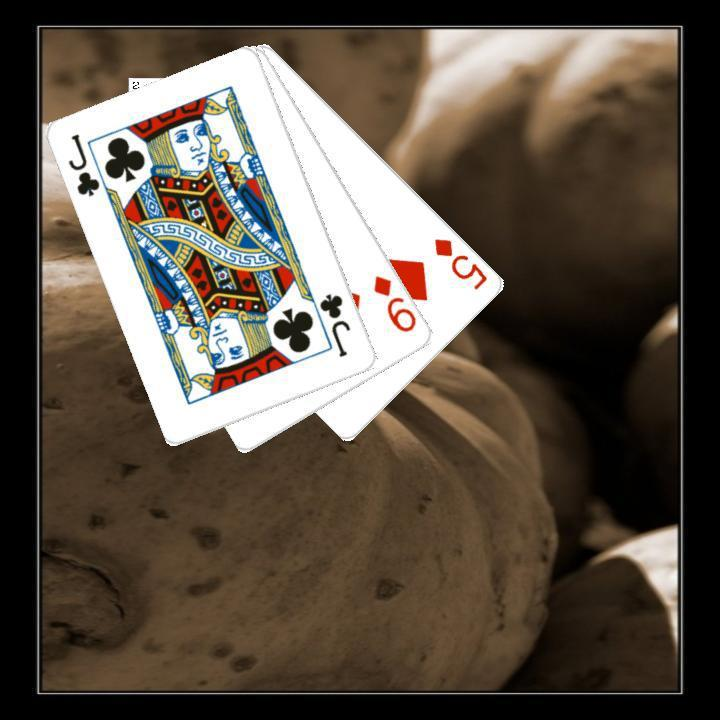5: (430, 233, 490, 292)
9: (369, 271, 419, 335)
J: (64, 129, 103, 199), (315, 289, 353, 360)
